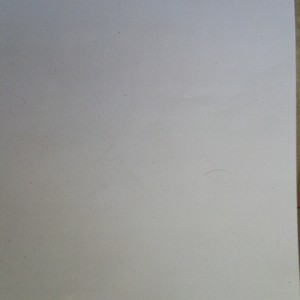base: (2, 1, 297, 300)
